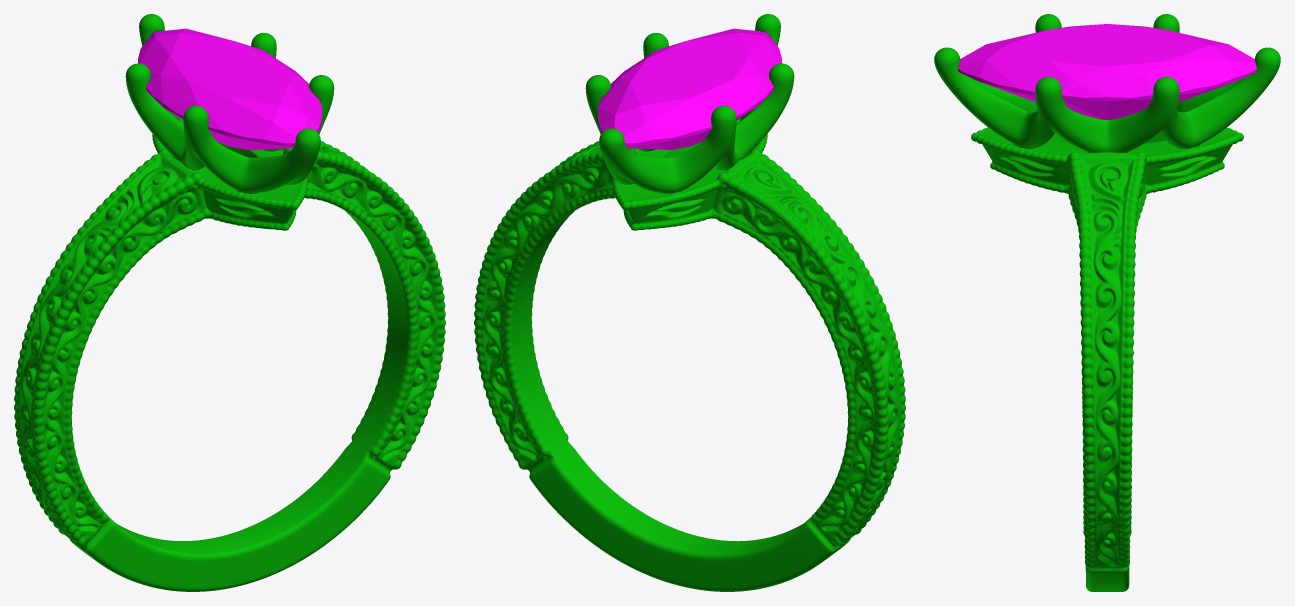
File: BE132_MQ_200ct_RENDER.glb
3 views of the same model, side by side, from view 1: azimuth 30°, elevation 25°; view 2: azimuth 150°, elevation 25°; view 3: azimuth 270°, elevation 25° (orthographic). The views are drawn at different scales.
Visible parts, largest first — view 1: Metal 01, CS_Diamond_Marquise; view 2: Metal 01, CS_Diamond_Marquise; view 3: Metal 01, CS_Diamond_Marquise.
Part boxes in pixels (x1,y1,x2,y2): Metal 01: (14, 14, 445, 591); CS_Diamond_Marquise: (138, 28, 321, 150); Metal 01: (474, 14, 905, 591); CS_Diamond_Marquise: (598, 28, 781, 150); Metal 01: (934, 14, 1280, 591); CS_Diamond_Marquise: (958, 24, 1256, 119).
Bounding box in the file's own units: 20.27 × 24.02 × 14.4.
